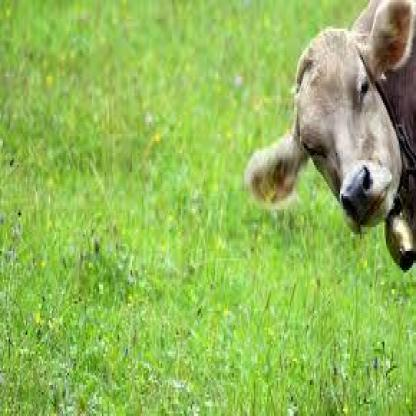cow: (242, 3, 416, 274)
